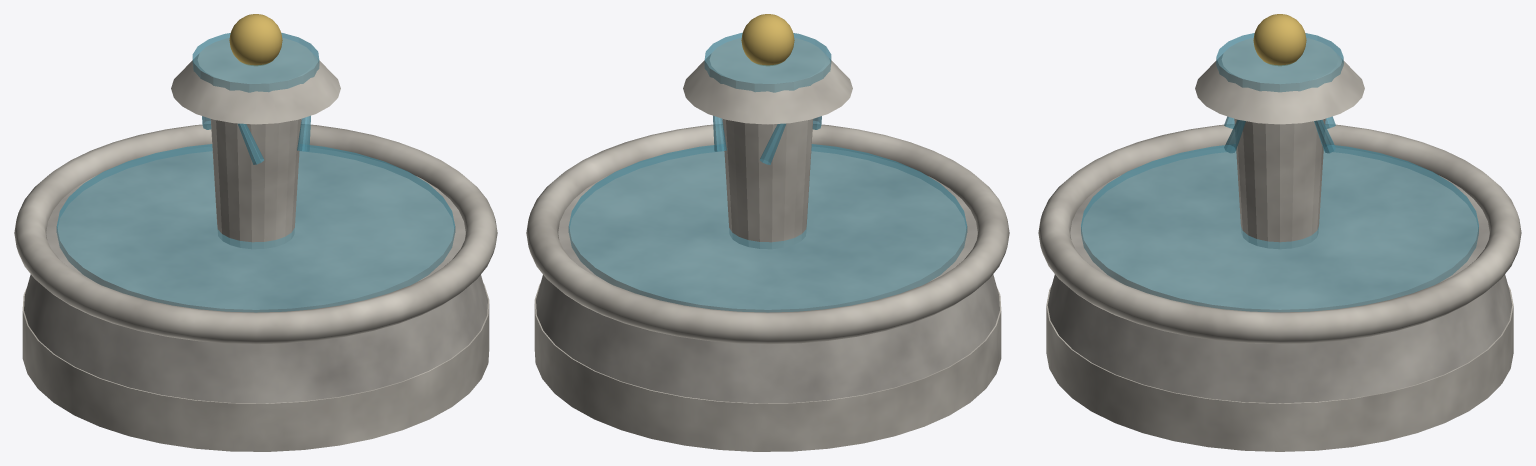
Rendered from fountain.glb.
The picture shows the model from 3 angles, left to right: view 1: azimuth 30°, elevation 25°; view 2: azimuth 150°, elevation 25°; view 3: azimuth 270°, elevation 25°; orthographic projection.
Parts seen in each view (by area): view 1: fo_basin_o, fo_lip, fo_water, fo_top_w, fo_finial; view 2: fo_basin_o, fo_lip, fo_water, fo_top_w, fo_finial; view 3: fo_basin_o, fo_lip, fo_water, fo_top_w, fo_finial.
Part boxes in pixels (box(x1,y1,x2,y2)): fo_basin_o: box(24, 147, 487, 403); fo_lip: box(14, 38, 497, 451); fo_water: box(56, 144, 455, 312); fo_top_w: box(192, 32, 319, 92); fo_finial: box(229, 14, 282, 66); fo_basin_o: box(536, 147, 999, 403); fo_lip: box(526, 38, 1009, 451); fo_water: box(568, 144, 967, 312); fo_top_w: box(704, 32, 831, 92); fo_finial: box(741, 14, 794, 66); fo_basin_o: box(1047, 148, 1512, 403); fo_lip: box(1038, 38, 1521, 451); fo_water: box(1081, 144, 1478, 312); fo_top_w: box(1216, 33, 1343, 92); fo_finial: box(1253, 14, 1306, 66).
Size of the model in its own units: 0.91 by 0.7 by 0.91.
Materials: 4 (2 with a texture image).
